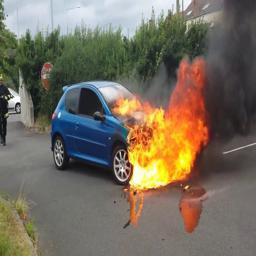fire: (112, 56, 210, 191)
